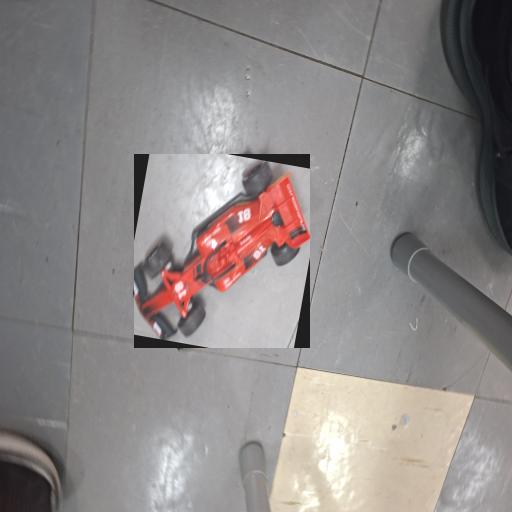carro: (133, 155, 307, 348)
